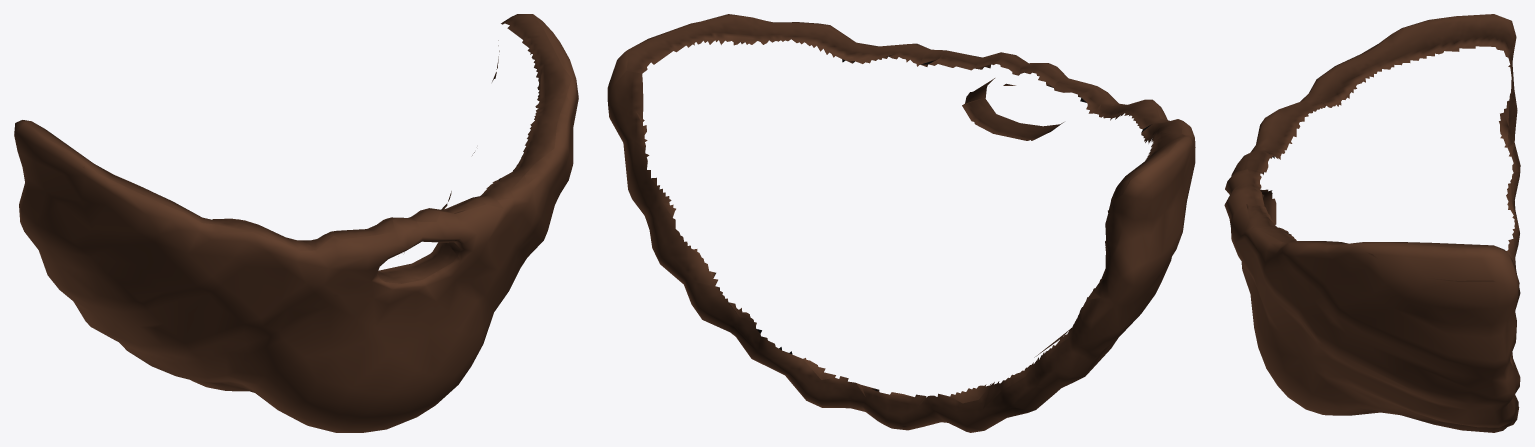
The model's file is beard_full.glb.
The picture shows the model from 3 angles, left to right: view 1: azimuth 30°, elevation 25°; view 2: azimuth 150°, elevation 25°; view 3: azimuth 270°, elevation 25°; orthographic projection. The views are drawn at different scales.
Parts seen in each view (by area): view 1: beard_full; view 2: beard_full; view 3: beard_full.
Part boxes in pixels (x1,y1,x2,y2): beard_full: (14,14,578,432); beard_full: (607,14,1195,432); beard_full: (1224,14,1520,432).
Size of the model in its own units: 0.6111 by 0.3424 by 0.3276.
1 material, 1 textured.
